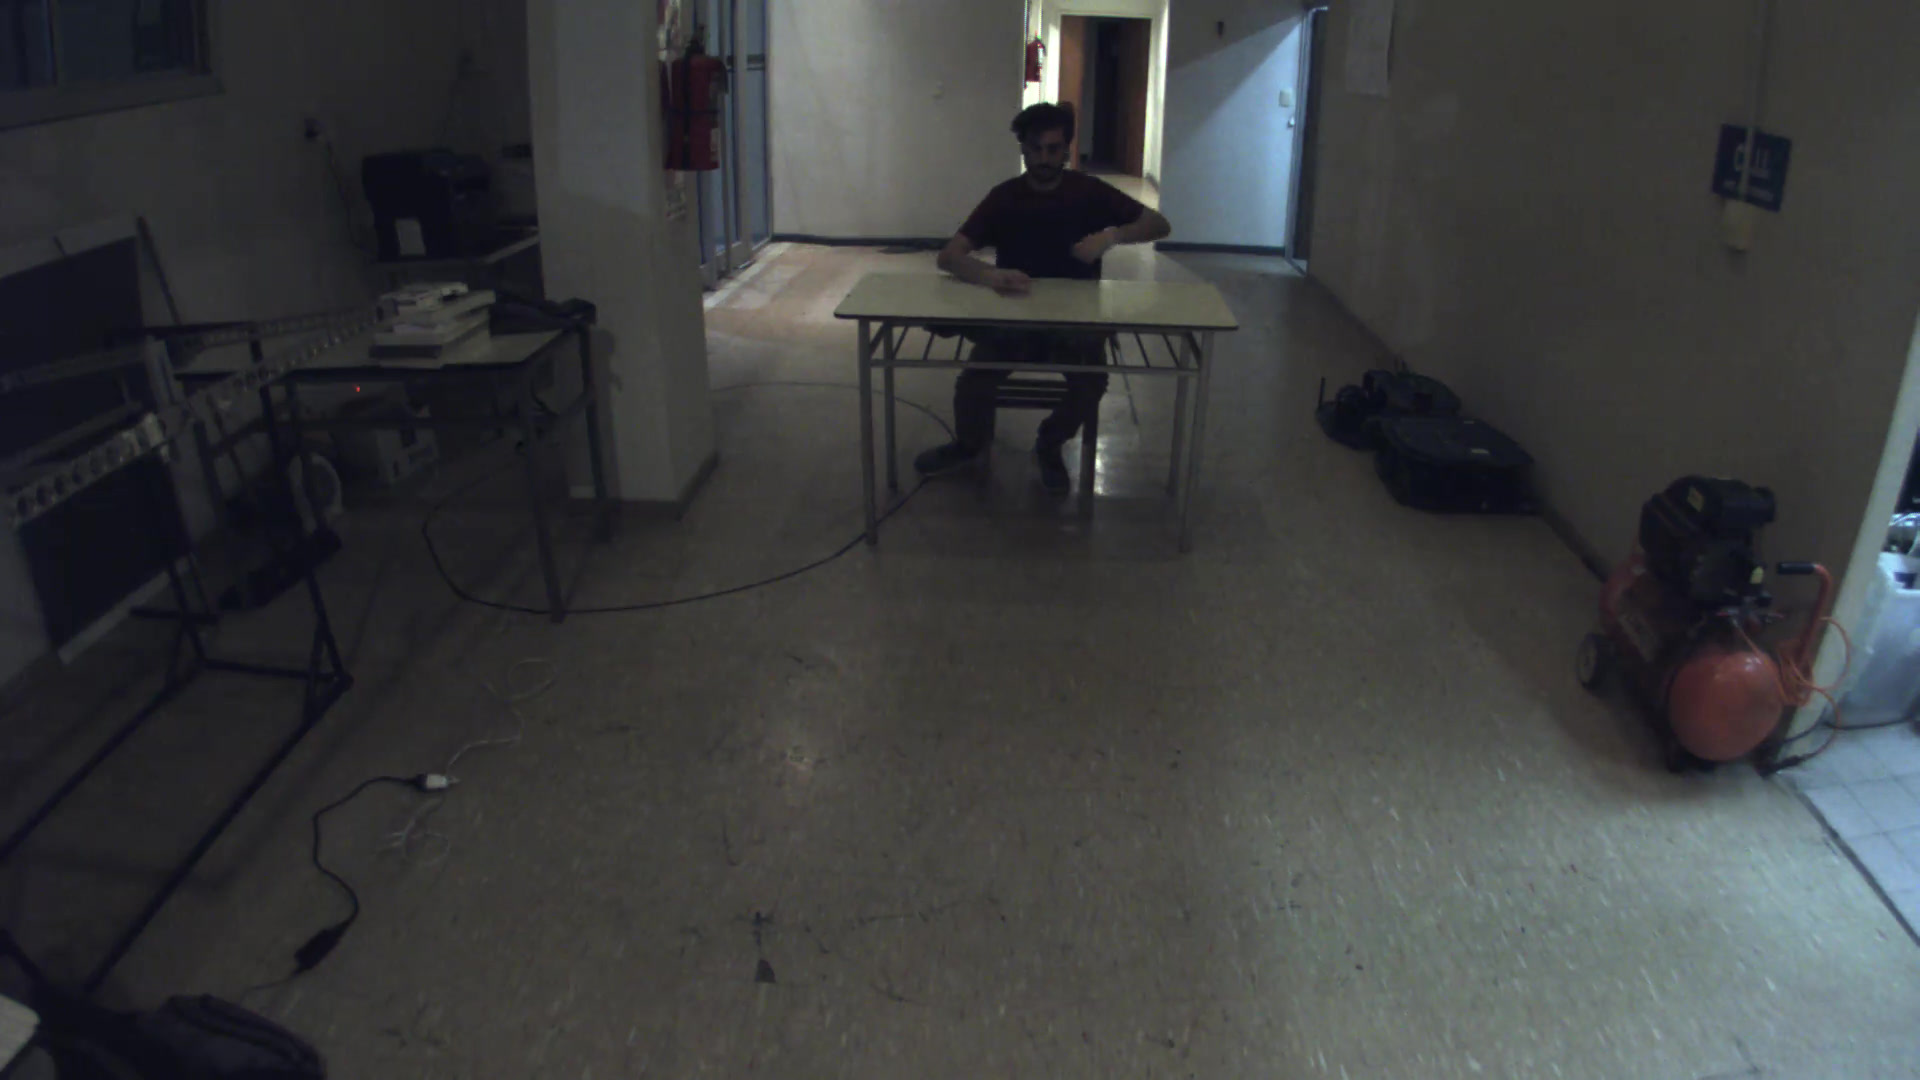hand: (1064, 222, 1130, 274), (982, 247, 1036, 295)
